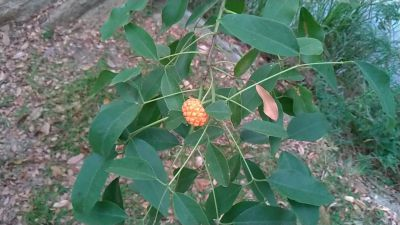eggs: (184, 99, 203, 128)
